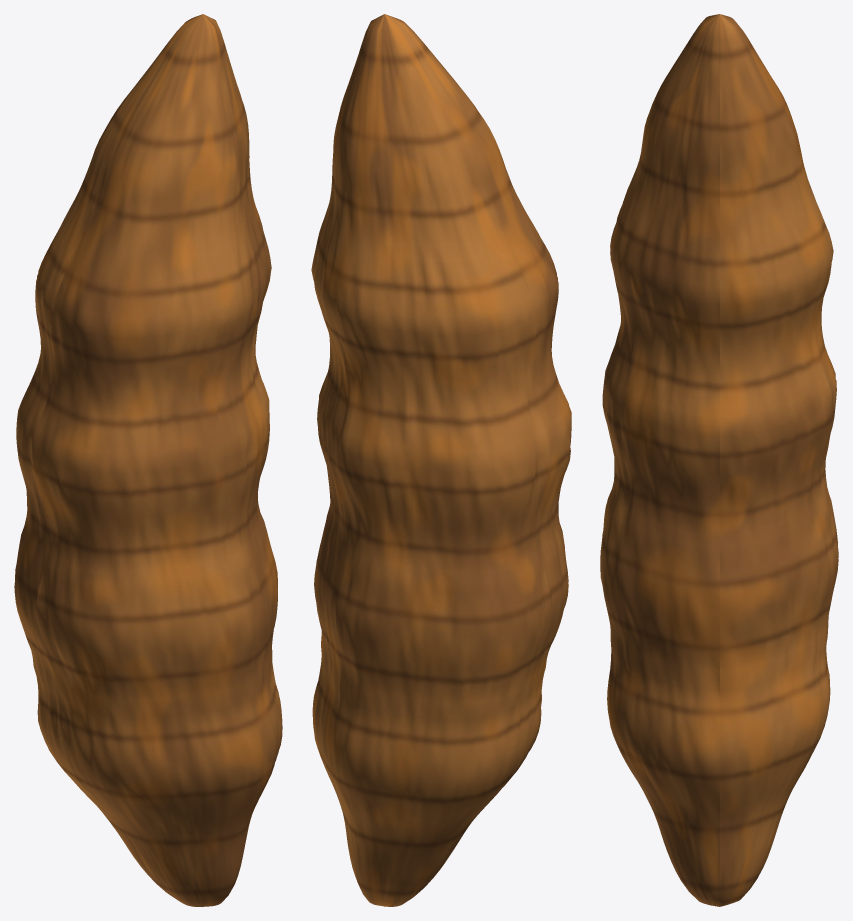
Rendered from curcuma.glb.
3 renders of one model, left to right at view 1: azimuth 30°, elevation 25°; view 2: azimuth 150°, elevation 25°; view 3: azimuth 270°, elevation 25°, orthographic.
Parts seen in each view (by area): view 1: moitie_A_peau, entier_peau, moitie_B_peau; view 2: entier_peau, moitie_B_peau, moitie_A_peau; view 3: entier_peau, moitie_A_peau, moitie_B_peau.
Part boxes in pixels (x1=…): moitie_A_peau: x1=36, y1=14, x2=282, y2=906; entier_peau: x1=14, y1=14, x2=282, y2=906; moitie_B_peau: x1=14, y1=15, x2=206, y2=892; entier_peau: x1=312, y1=14, x2=571, y2=906; moitie_B_peau: x1=311, y1=14, x2=551, y2=906; moitie_A_peau: x1=385, y1=14, x2=571, y2=884; entier_peau: x1=600, y1=14, x2=838, y2=906; moitie_A_peau: x1=600, y1=14, x2=719, y2=906; moitie_B_peau: x1=720, y1=14, x2=838, y2=906.
Size of the model in its own units: 0.0434 by 0.1575 by 0.0381.
2 materials, 2 textured.
